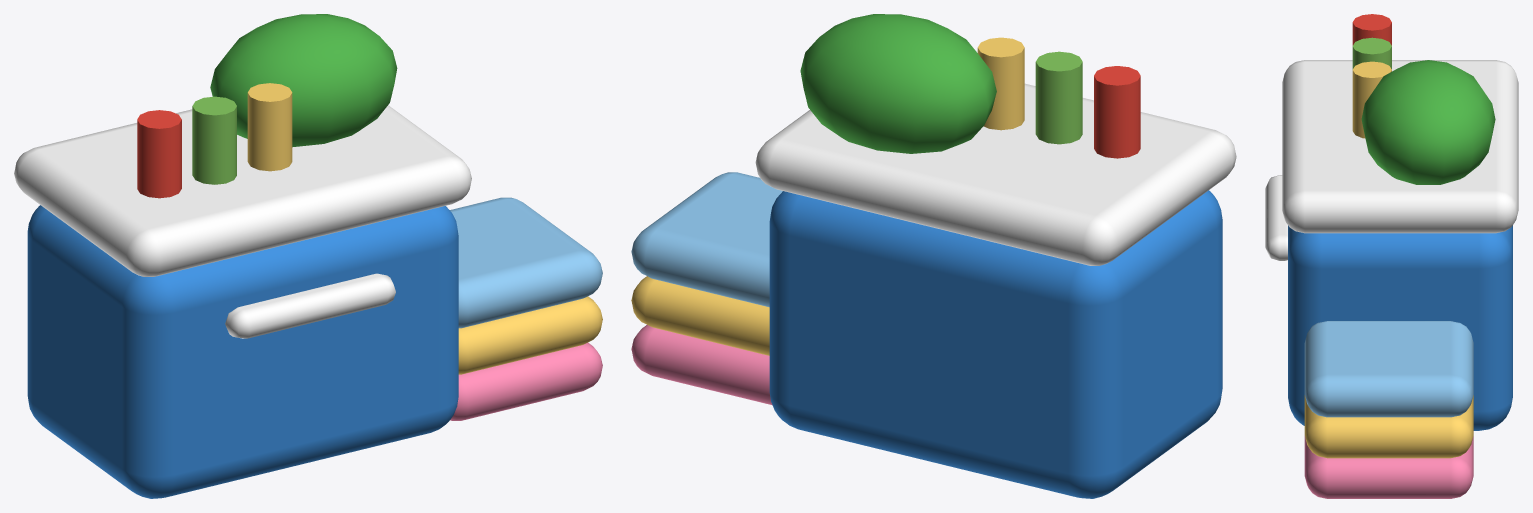
File: deckbox-cooler.glb
3 renders of one model, left to right at view 1: azimuth 30°, elevation 25°; view 2: azimuth 150°, elevation 25°; view 3: azimuth 270°, elevation 25°, orthographic. The views are drawn at different scales.
Bounding box in the file's own units: 0.88 × 0.652 × 0.45.
